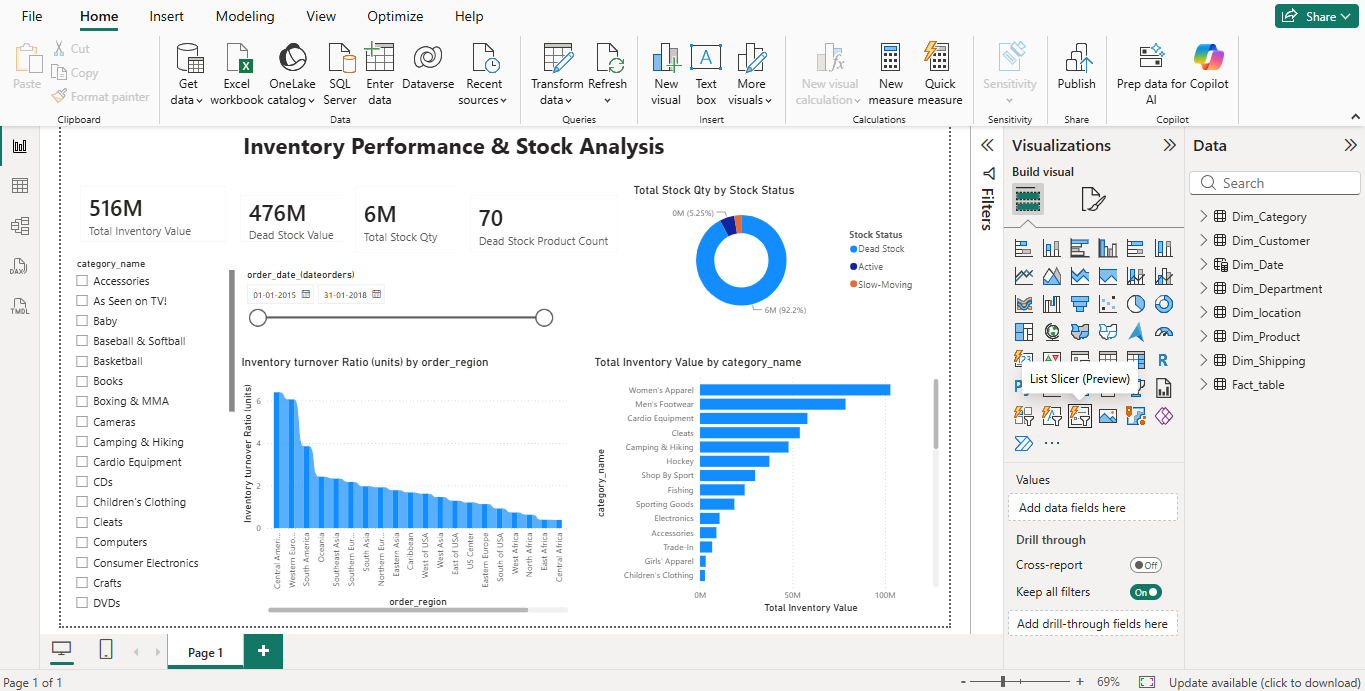

This screenshot's page, from the dashboard's own definition file:
{"tool":"powerbi","page":{"name":"Page 1","canvas":[1280,720],"ordinal":0},"visuals":[{"type":"textbox","box":[10.1,0,1269.9,95.7],"z":0},{"type":"cardVisual","fields":{"Data":["Fact_table.Total Inventory Value"]},"box":[10.1,68.9,245.2,115.9],"z":1},{"type":"cardVisual","fields":{"Data":["Fact_table.Dead Stock Value"]},"box":[240.2,82.3,191.5,102.5],"z":2},{"type":"cardVisual","fields":{"Data":["Fact_table.Total Stock Qty"]},"box":[406.5,68.9,208.3,131],"z":3},{"type":"cardVisual","fields":{"Data":["Fact_table.Dead Stock Product Count"]},"box":[571.1,82.3,248.6,117.6],"z":4},{"type":"clusteredBarChart","fields":{"Category":["Fact_table.category_name"],"Y":["Fact_table.Total Inventory Value"]},"box":[762.6,329.2,505.6,376.3],"z":5},{"type":"donutChart","fields":{"Category":["Fact_table.Stock Status"],"Y":["Fact_table.Total Stock Qty"]},"box":[819.7,82.3,421.6,201.6],"z":6},{"type":"slicer","fields":{"Values":["Fact_table.category_name"]},"box":[10.1,184.8,245.2,520.7],"z":7},{"type":"slicer","fields":{"Values":["Fact_table.order_date_(dateorders)"]},"box":[255.3,199.9,461.9,162.9],"z":8},{"type":"ribbonChart","fields":{"Y":["Dim_Category.Inventory turnover Ratio (units)"],"Category":["Fact_table.order_region"]},"box":[255.3,329.2,480.4,376.3],"z":9}]}

Visuals, with their boxes on the page's 1280x720 design canvas (x1, y1, x2, y2). These are canvas units, not pixel positions in the 1365x691 screenshot, which may show the page scaled, cropped or inside an application window:
textbox: {"x1": 10, "y1": 0, "x2": 1280, "y2": 96}
cardVisual - Fact_table.Total Inventory Value: {"x1": 10, "y1": 69, "x2": 255, "y2": 185}
cardVisual - Fact_table.Dead Stock Value: {"x1": 240, "y1": 82, "x2": 432, "y2": 185}
cardVisual - Fact_table.Total Stock Qty: {"x1": 406, "y1": 69, "x2": 615, "y2": 200}
cardVisual - Fact_table.Dead Stock Product Count: {"x1": 571, "y1": 82, "x2": 820, "y2": 200}
clusteredBarChart - Fact_table.category_name x Fact_table.Total Inventory Value: {"x1": 763, "y1": 329, "x2": 1268, "y2": 706}
donutChart - Fact_table.Stock Status x Fact_table.Total Stock Qty: {"x1": 820, "y1": 82, "x2": 1241, "y2": 284}
slicer - Fact_table.category_name: {"x1": 10, "y1": 185, "x2": 255, "y2": 706}
slicer - Fact_table.order_date_(dateorders): {"x1": 255, "y1": 200, "x2": 717, "y2": 363}
ribbonChart - Dim_Category.Inventory turnover Ratio (units) x Fact_table.order_region: {"x1": 255, "y1": 329, "x2": 736, "y2": 706}
